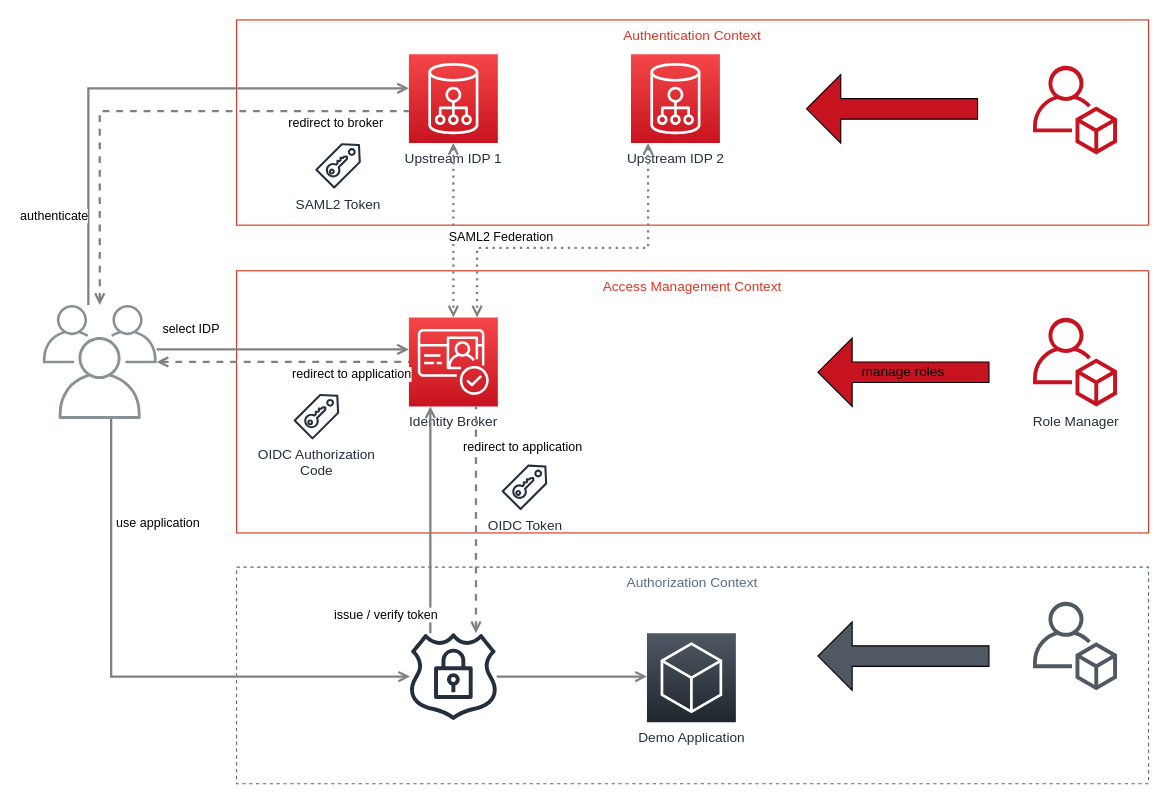
The diagram is 1169 pixels wide and 804 high, and some of its shapes have lost their labels. Each missing label, with the centre of its shape:
Account Manager: point 1074,109
Appplication Users: point 99,361
Developer: point 1074,645
manage accounts: point 891,108
manage policies: point 903,655
Policy Enforcement Point: point 452,676
